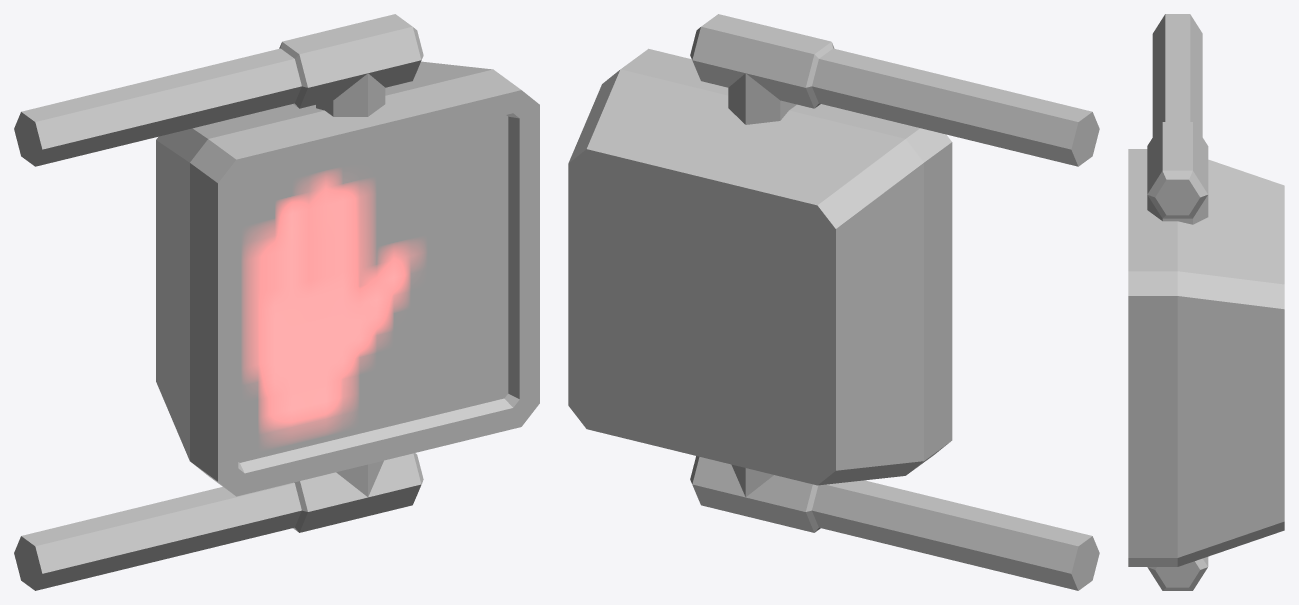
File: SM_Envr_Road_Props_TrafficSignal_Crosswalk_Stop.fbx
3 renders of one model, left to right at view 1: azimuth 30°, elevation 25°; view 2: azimuth 150°, elevation 25°; view 3: azimuth 270°, elevation 25°, orthographic. The views are drawn at different scales.
Visible parts, largest first — view 1: SM_Envr_Road_Props_TrafficSignal_Crosswalk_Stop; view 2: SM_Envr_Road_Props_TrafficSignal_Crosswalk_Stop; view 3: SM_Envr_Road_Props_TrafficSignal_Crosswalk_Stop.
Part boxes in pixels (box(x1,y1,x2,y2)): SM_Envr_Road_Props_TrafficSignal_Crosswalk_Stop: box(14, 14, 539, 590); SM_Envr_Road_Props_TrafficSignal_Crosswalk_Stop: box(568, 14, 1099, 590); SM_Envr_Road_Props_TrafficSignal_Crosswalk_Stop: box(1128, 14, 1284, 590).
Bounding box in the file's own units: 64.41 × 60.93 × 20.58.
